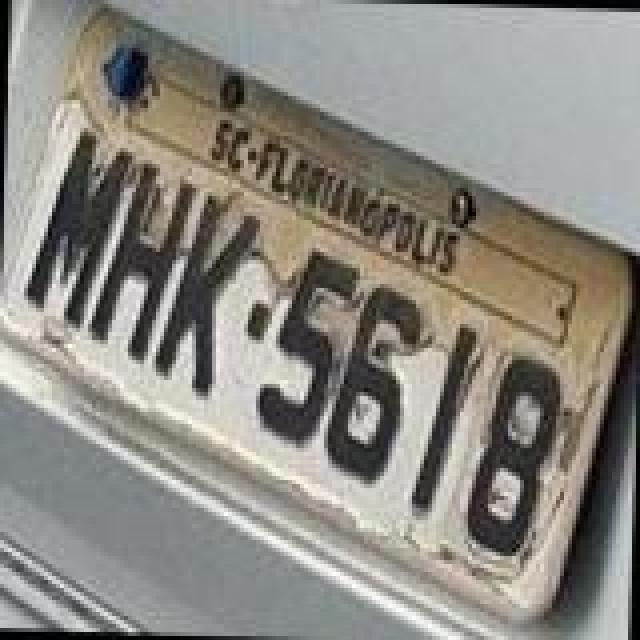1: (412, 322, 484, 518)
5: (258, 242, 366, 446)
6: (324, 286, 428, 482)
8: (460, 354, 564, 558)
H: (86, 156, 202, 364)
K: (152, 192, 264, 400)
M: (22, 130, 138, 334)
